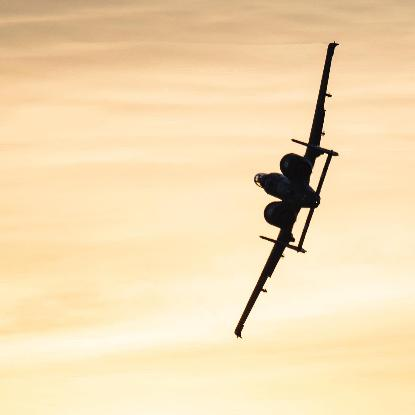A10: (234, 41, 339, 338)
